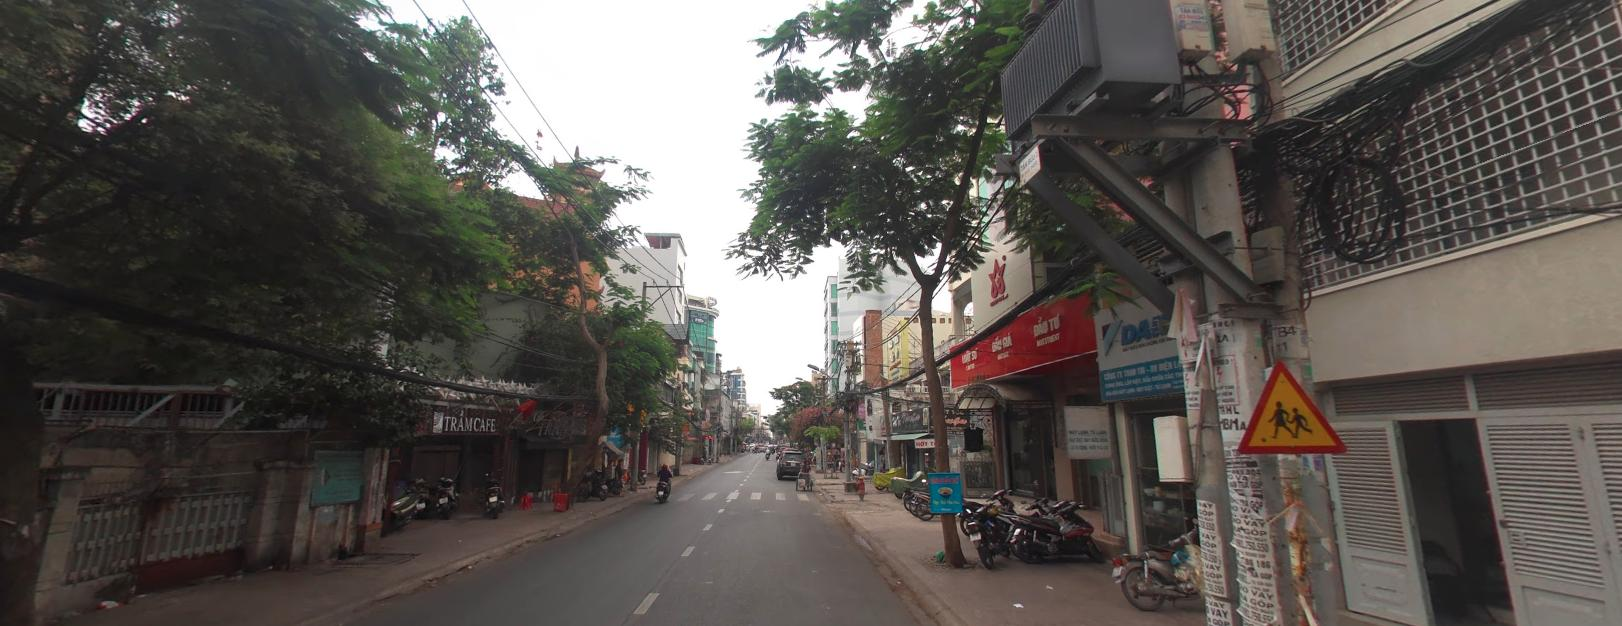Nguy hiem: (1236, 359, 1348, 453)
